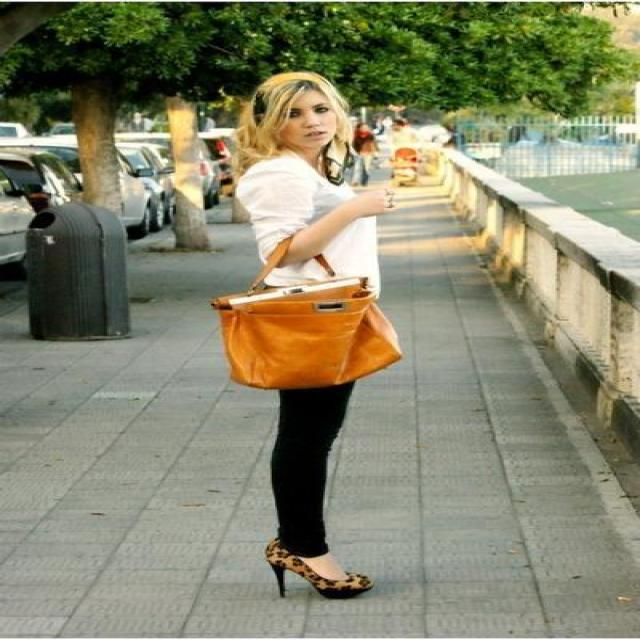bag: (212, 254, 422, 393)
pants: (270, 380, 354, 557)
shirt: (235, 152, 379, 301)
shoe: (278, 556, 379, 605)
